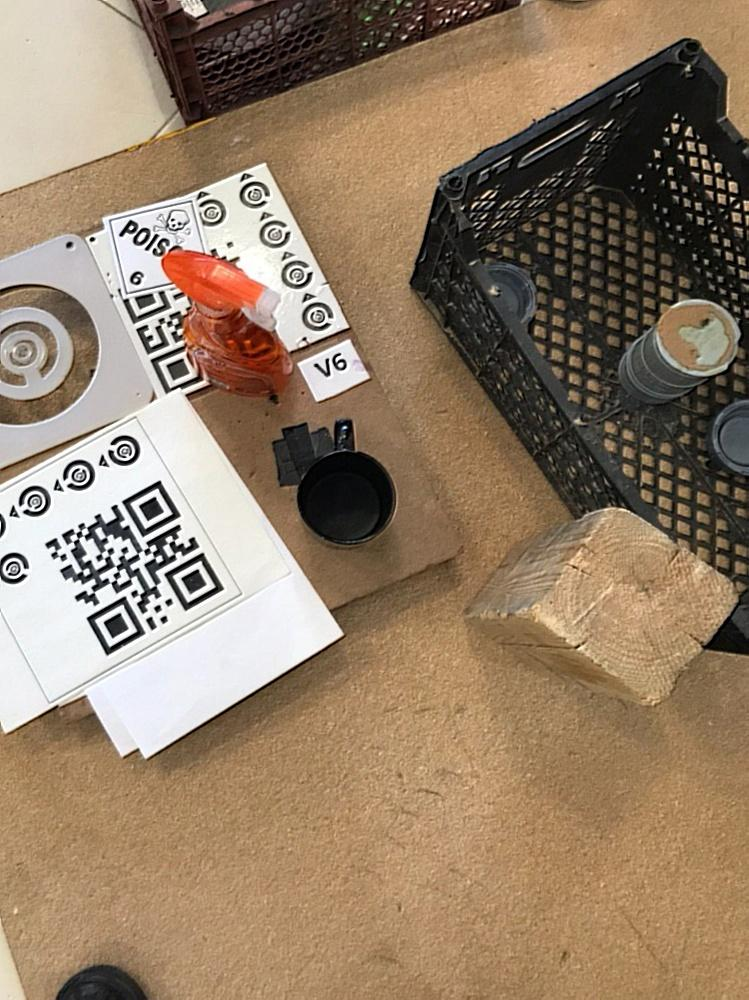poison: (107, 202, 210, 303)
